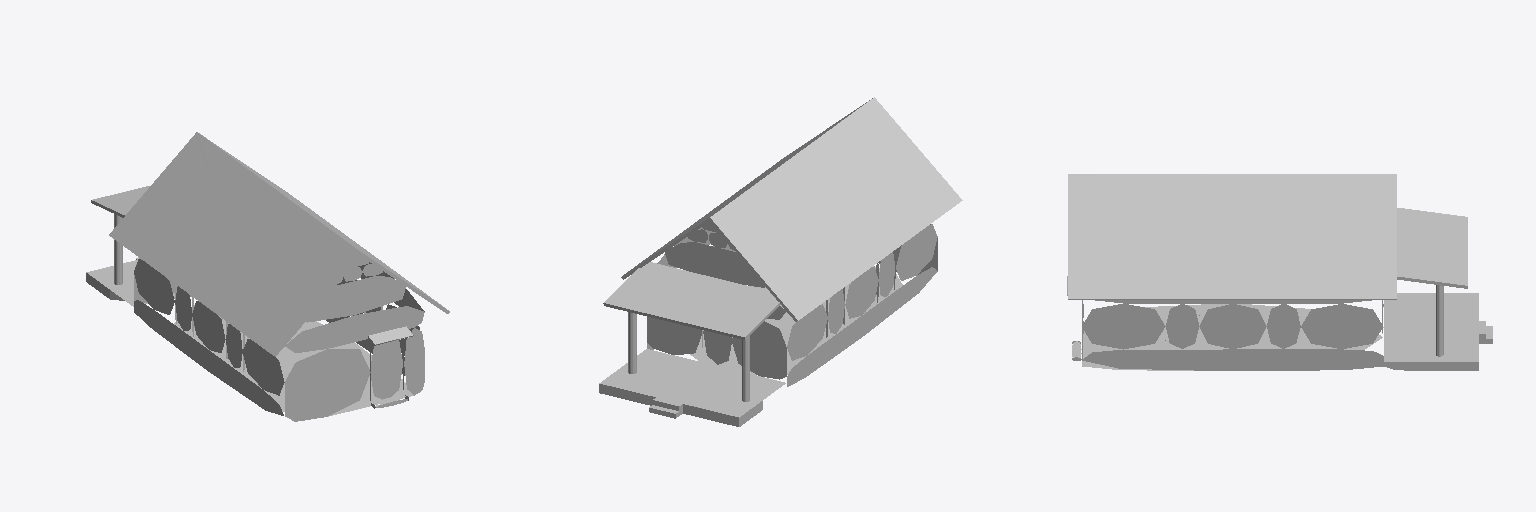
The model's file is farmhouse.obj.
3 views of the same model, side by side, from view 1: azimuth 30°, elevation 25°; view 2: azimuth 150°, elevation 25°; view 3: azimuth 270°, elevation 25° (orthographic).
Parts seen in each view (by area): view 1: polySurface73_lambert13SG; view 2: polySurface73_lambert13SG; view 3: polySurface73_lambert13SG.
Boxes of the visible parts, box(x1,y1,x2,y2) form: polySurface73_lambert13SG: box(86, 132, 449, 421); polySurface73_lambert13SG: box(599, 97, 962, 426); polySurface73_lambert13SG: box(1067, 174, 1492, 370).
Bounding box in the file's own units: 728 × 638 × 1511.